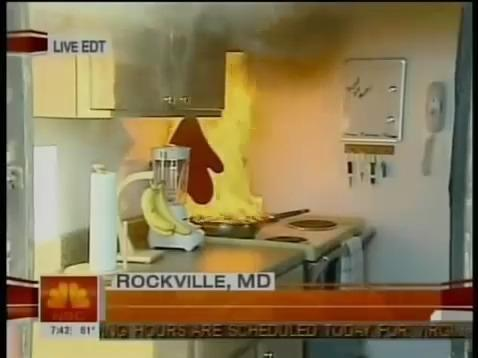fire: (166, 50, 281, 222)
